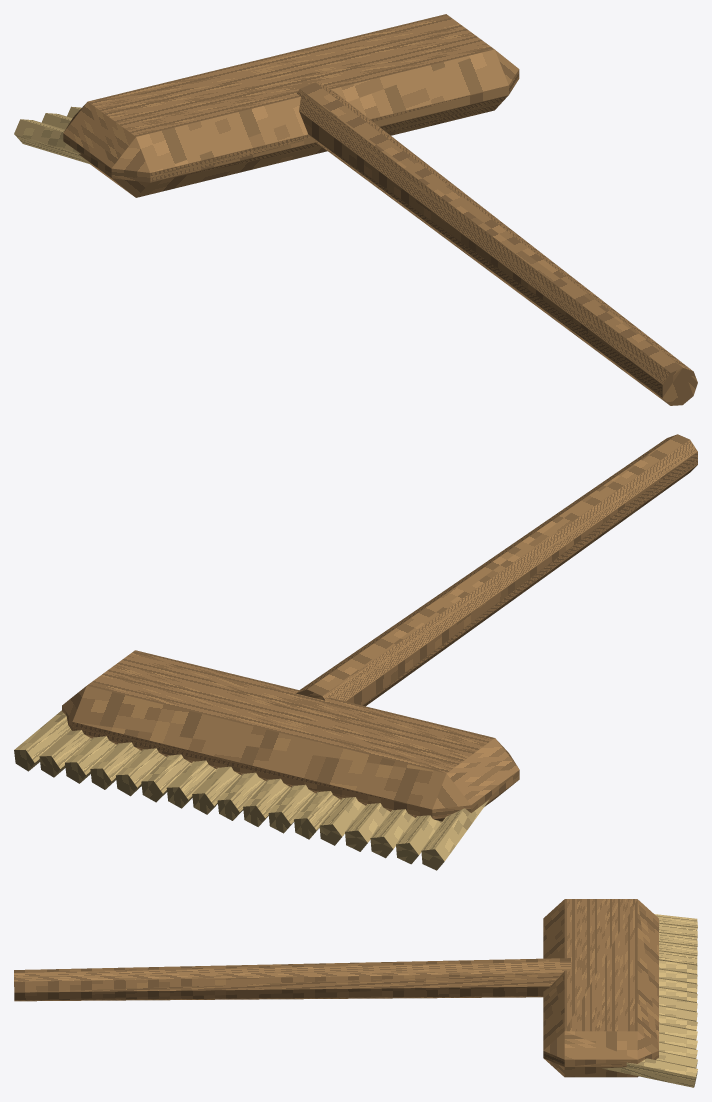
The model's file is broom.glb.
The picture shows the model from 3 angles, top to bottom: view 1: azimuth 30°, elevation 25°; view 2: azimuth 150°, elevation 25°; view 3: azimuth 270°, elevation 25°; orthographic projection. The views are drawn at different scales.
Parts seen in each view (by area): view 1: block_broom head, block_handle, block_straw brush tuft 0; view 2: block_broom head, block_straw brush tuft 0 (×17), block_handle; view 3: block_handle, block_broom head, block_straw brush tuft 0 (×17).
Boxes of the visible parts, box(x1,y1,x2,y2) form: block_broom head: box(63, 14, 519, 197); block_handle: box(297, 82, 697, 405); block_straw brush tuft 0: box(14, 119, 91, 164); block_broom head: box(62, 650, 519, 821); block_straw brush tuft 0 (×17): box(14, 710, 488, 870); block_handle: box(296, 434, 697, 706); block_handle: box(14, 958, 570, 1001); block_broom head: box(543, 899, 658, 1077); block_straw brush tuft 0 (×17): box(602, 914, 697, 1087).
Size of the model in its own units: 0.7648 by 0.1188 by 1.4.
Materials: 1 (1 with a texture image).
